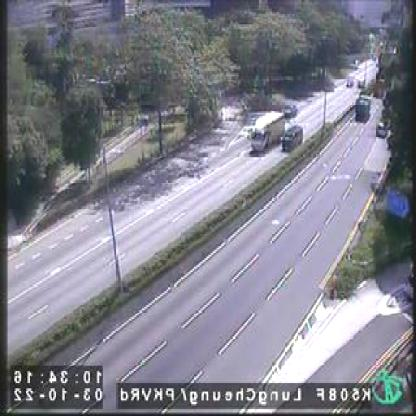Car: (286, 126, 304, 152), (286, 104, 298, 116)
Truck: (252, 112, 285, 150), (355, 92, 373, 119)
